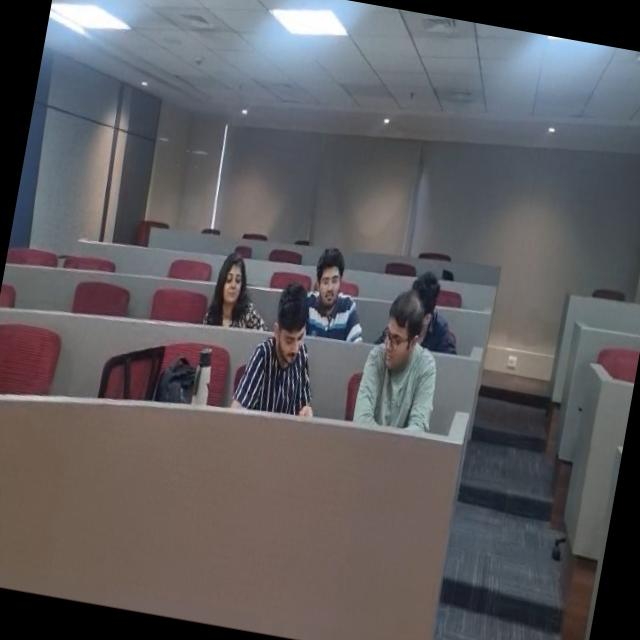cheating: (348, 298, 440, 438), (232, 290, 328, 424), (393, 264, 500, 346), (302, 254, 375, 338)
non-cheating: (197, 240, 261, 336)
